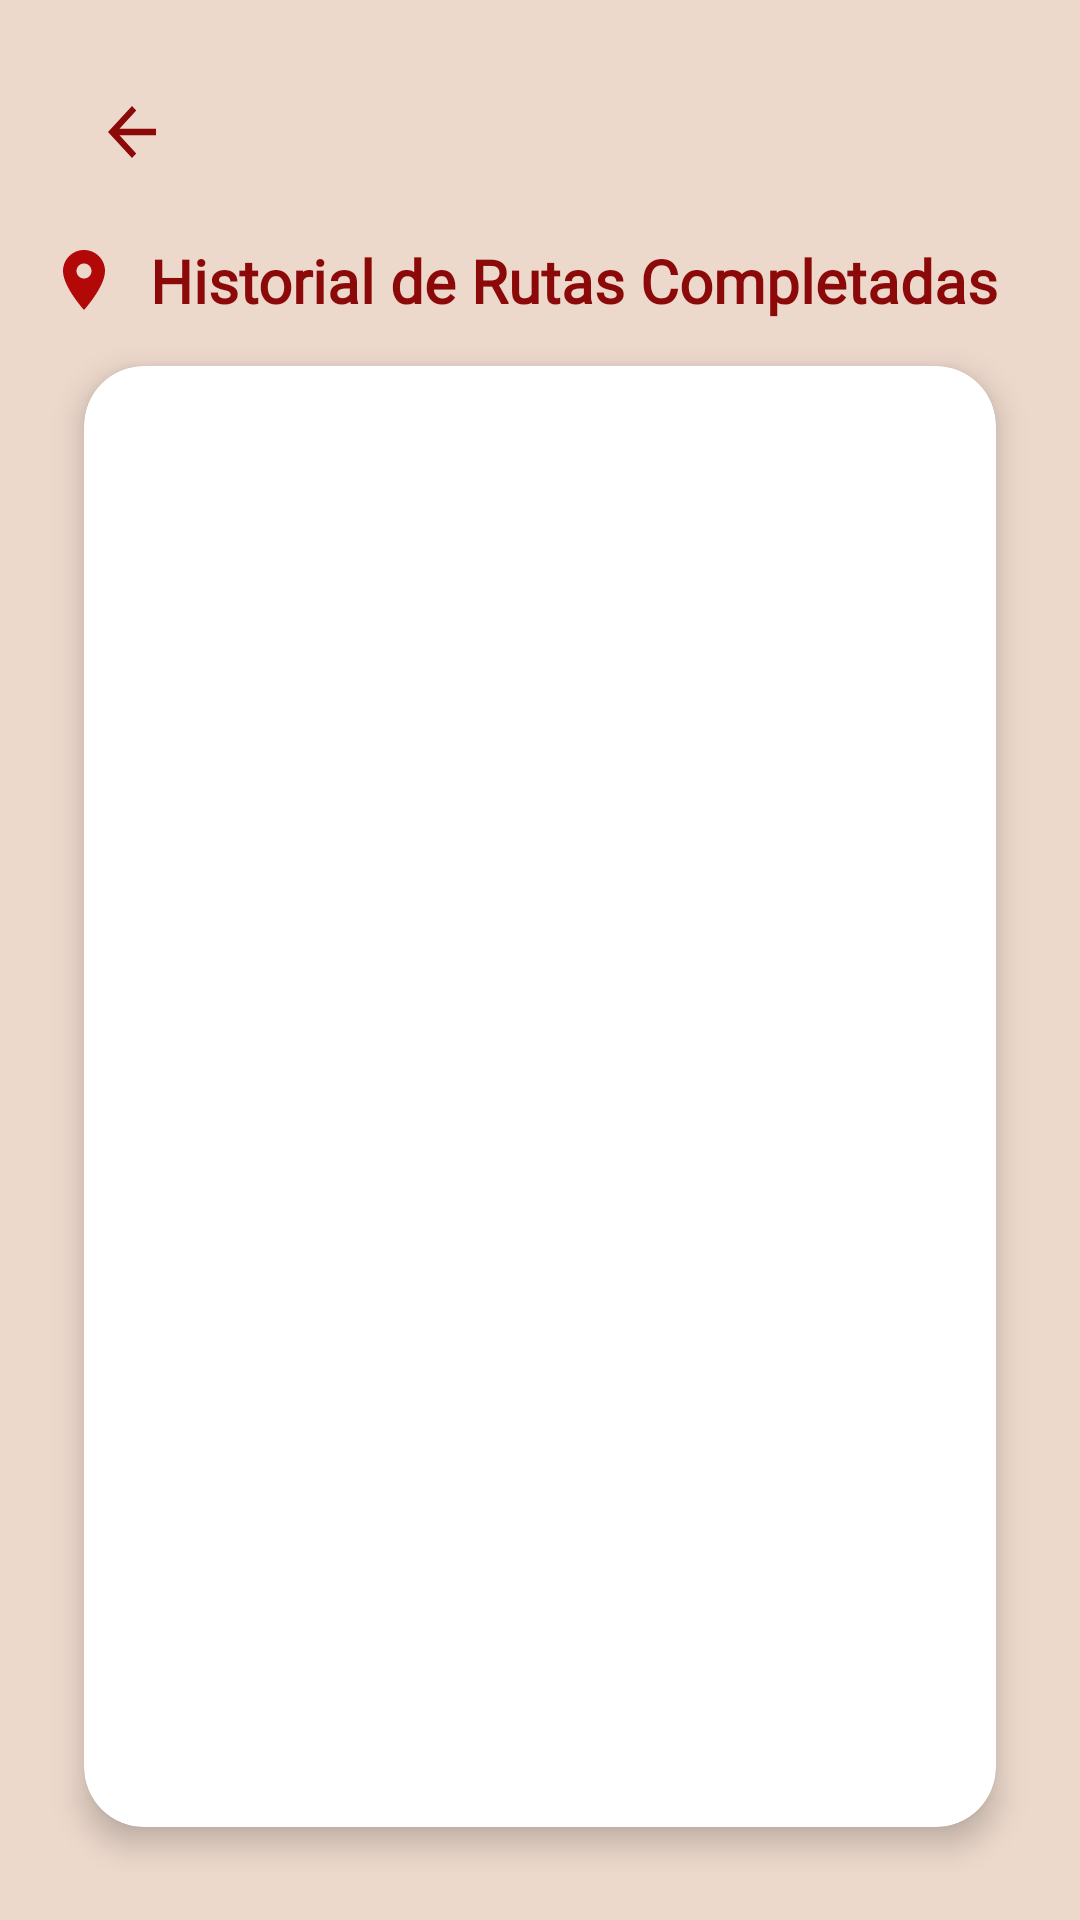

Screen size 1080×1920. Icon name, then its center in pixels as (x=x, y=y):
route: (x=84, y=280)
Volver: (x=132, y=132)
